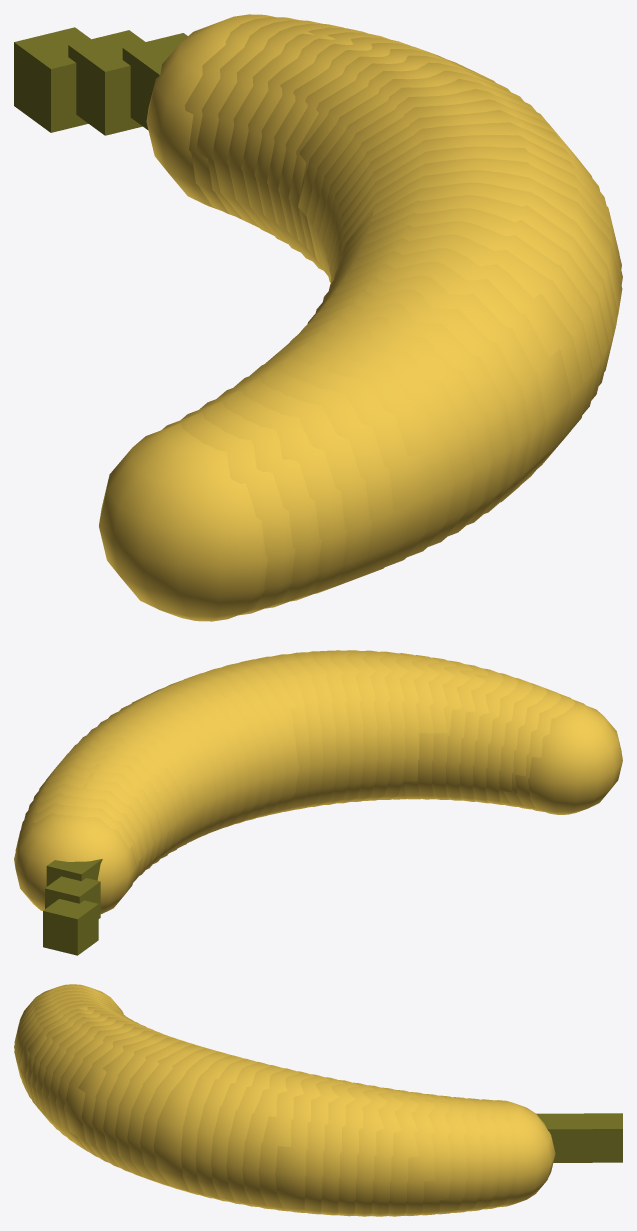
File: CMU3DCurvedBanana.glb
3 renders of one model, top to bottom at view 1: azimuth 30°, elevation 25°; view 2: azimuth 150°, elevation 25°; view 3: azimuth 270°, elevation 25°, orthographic. The views are drawn at different scales.
Parts seen in each view (by area): view 1: curved banana (×41), banana green-brown stalk (×3); view 2: curved banana (×41), banana green-brown stalk (×3); view 3: curved banana (×41), banana green-brown stalk (×3).
Part boxes in pixels (x1,y1,x2,y2): curved banana (×41): (99,14,622,621); banana green-brown stalk (×3): (14,27,187,135); curved banana (×41): (14,650,622,913); banana green-brown stalk (×3): (43,859,102,955); curved banana (×41): (14,984,555,1216); banana green-brown stalk (×3): (536,1113,622,1162).
Size of the model in its own units: 0.3741 by 0.127 by 0.5403.
